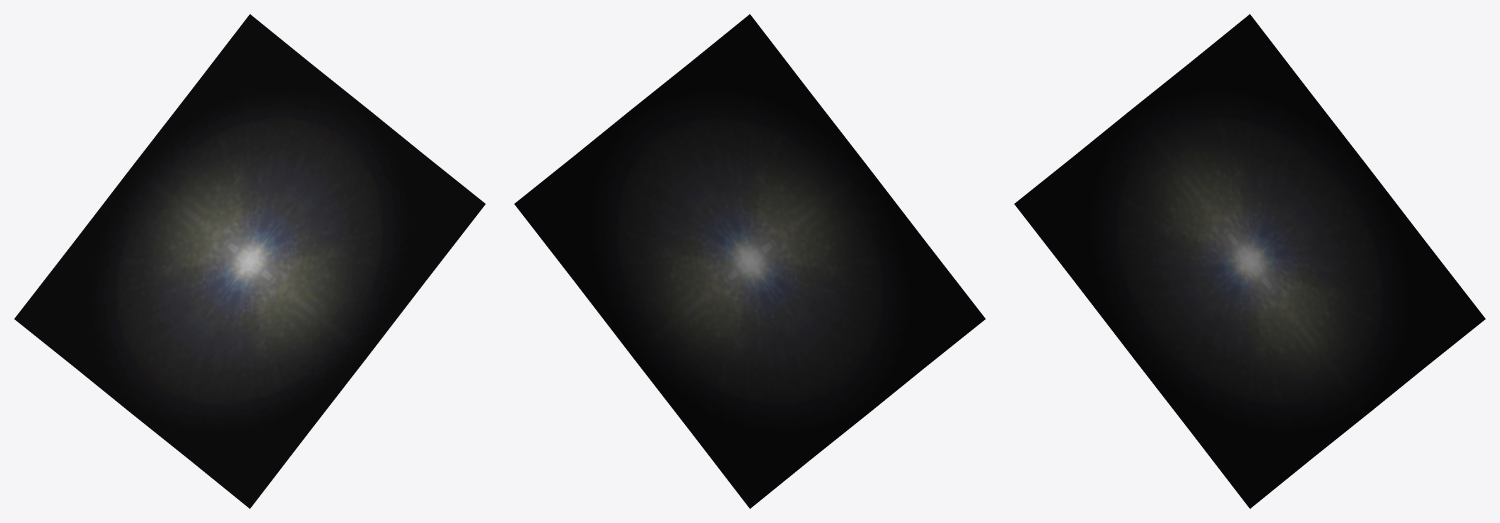
3 renders of one model, left to right at view 1: azimuth 30°, elevation 25°; view 2: azimuth 150°, elevation 25°; view 3: azimuth 330°, elevation 25°, orthographic.
Visible parts, largest first — view 1: mesh00; view 2: mesh00; view 3: mesh00.
Part boxes in pixels (box(x1,y1,x2,y2)): mesh00: box(14, 14, 485, 508); mesh00: box(514, 14, 985, 508); mesh00: box(1014, 14, 1485, 508).
Size of the model in its own units: 282 by 283 by 0.
